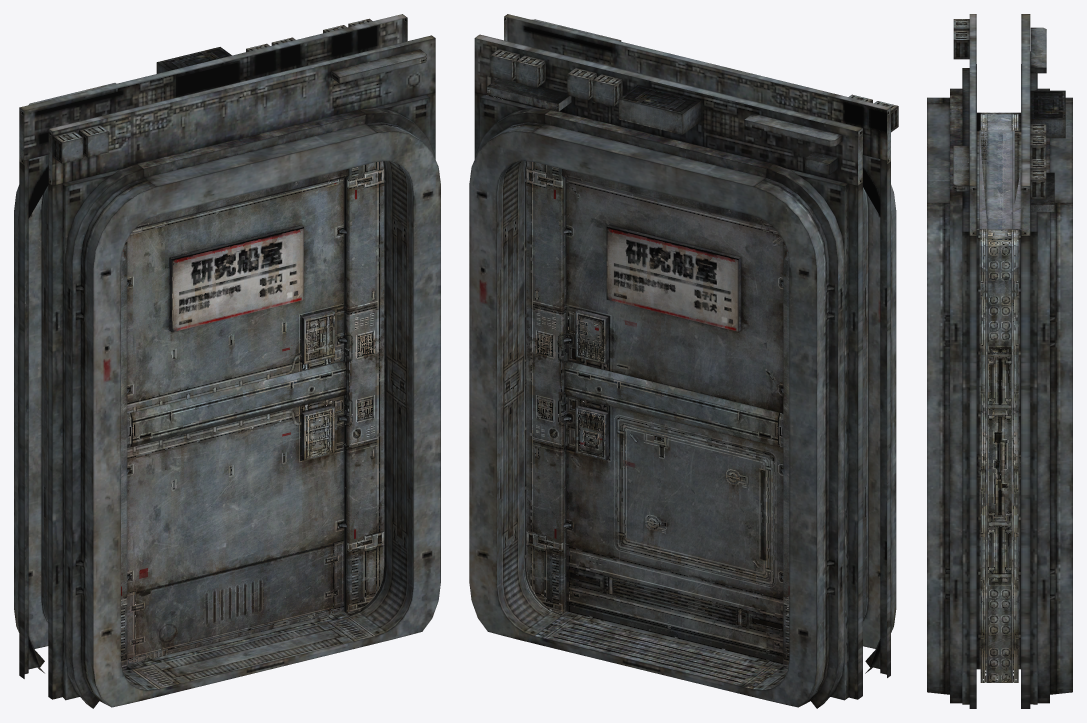
Rendered from slidedoor_medium.dae.
The picture shows the model from 3 angles, left to right: view 1: azimuth 30°, elevation 25°; view 2: azimuth 150°, elevation 25°; view 3: azimuth 270°, elevation 25°; orthographic projection. The views are drawn at different scales.
Parts seen in each view (by area): view 1: frame, door; view 2: frame, door; view 3: frame, door.
Boxes of the visible parts, bbox=[...] form: frame: bbox=[14, 14, 440, 708]; door: bbox=[121, 161, 384, 669]; frame: bbox=[469, 14, 898, 708]; door: bbox=[526, 161, 789, 669]; frame: bbox=[927, 14, 1072, 708]; door: bbox=[979, 114, 1020, 682].
Bounding box in the file's own units: 2.29 × 3.3 × 0.8217.
